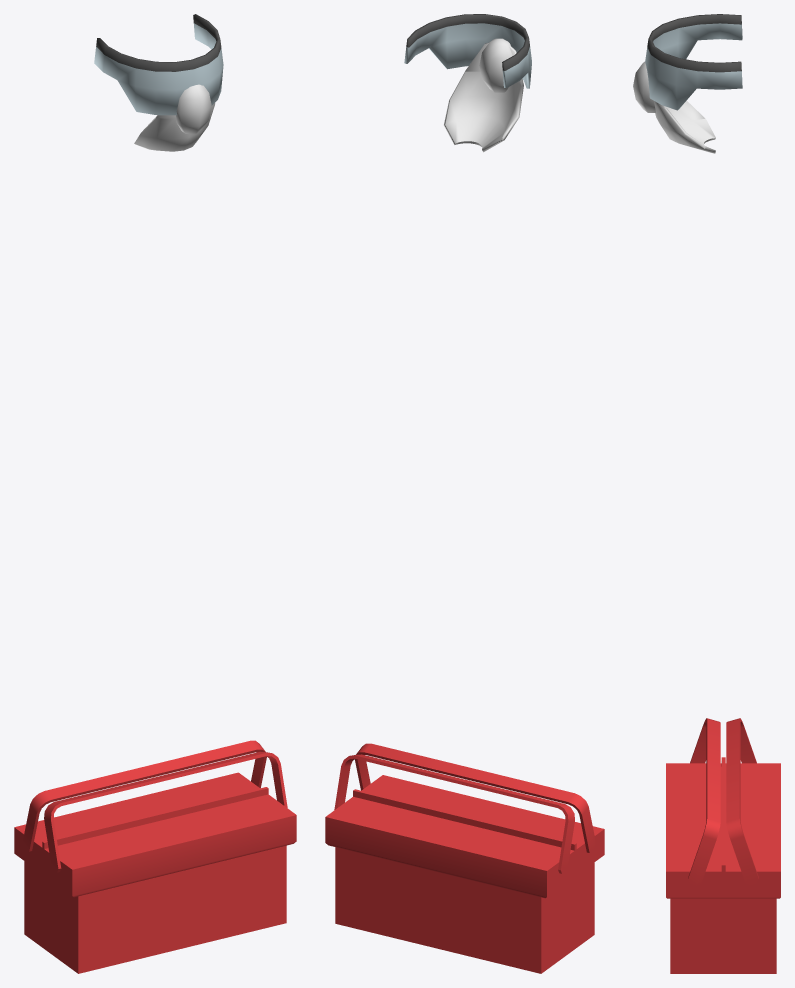
The model's file is Character_Acessories02.fbx.
3 renders of one model, left to right at view 1: azimuth 30°, elevation 25°; view 2: azimuth 150°, elevation 25°; view 3: azimuth 270°, elevation 25°, orthographic.
Parts seen in each view (by area): view 1: Tool Box, ProtectionGlasses, Mask; view 2: Tool Box, Mask, ProtectionGlasses; view 3: Tool Box, ProtectionGlasses, Mask.
Boxes of the visible parts, bbox=[...] form: Tool Box: bbox=[14, 740, 296, 973]; ProtectionGlasses: bbox=[94, 14, 223, 115]; Mask: bbox=[134, 84, 215, 151]; Tool Box: bbox=[325, 743, 604, 973]; Mask: bbox=[444, 38, 523, 152]; ProtectionGlasses: bbox=[404, 14, 531, 88]; Tool Box: bbox=[666, 718, 780, 973]; ProtectionGlasses: bbox=[645, 14, 742, 110]; Mask: bbox=[633, 61, 715, 153].
Size of the model in its own units: 81.63 by 304 by 46.02.
